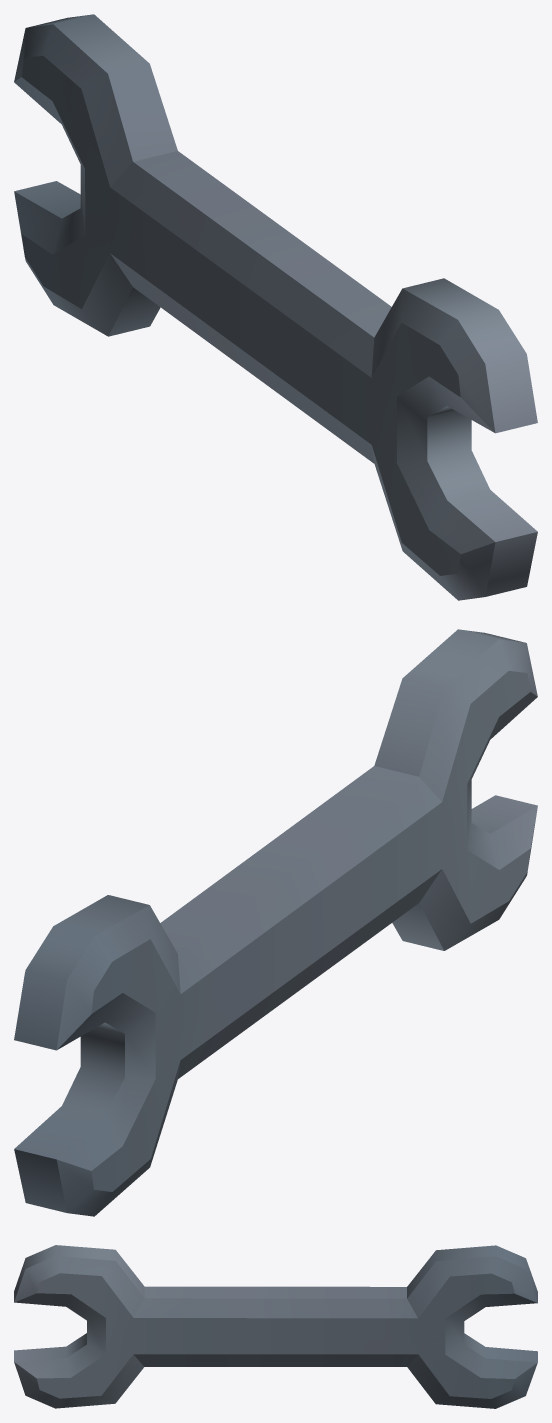
File: FlatWrench.fbx
The picture shows the model from 3 angles, top to bottom: view 1: azimuth 30°, elevation 25°; view 2: azimuth 150°, elevation 25°; view 3: azimuth 270°, elevation 25°; orthographic projection. The views are drawn at different scales.
Parts seen in each view (by area): view 1: FlatWrench; view 2: FlatWrench; view 3: FlatWrench.
Part boxes in pixels (left/top/right/bottom): FlatWrench: left=14, top=14, right=537, bottom=600; FlatWrench: left=14, top=629, right=537, bottom=1216; FlatWrench: left=14, top=1245, right=537, bottom=1408.
Size of the model in its own units: 3.43 by 13.06 by 40.52.
